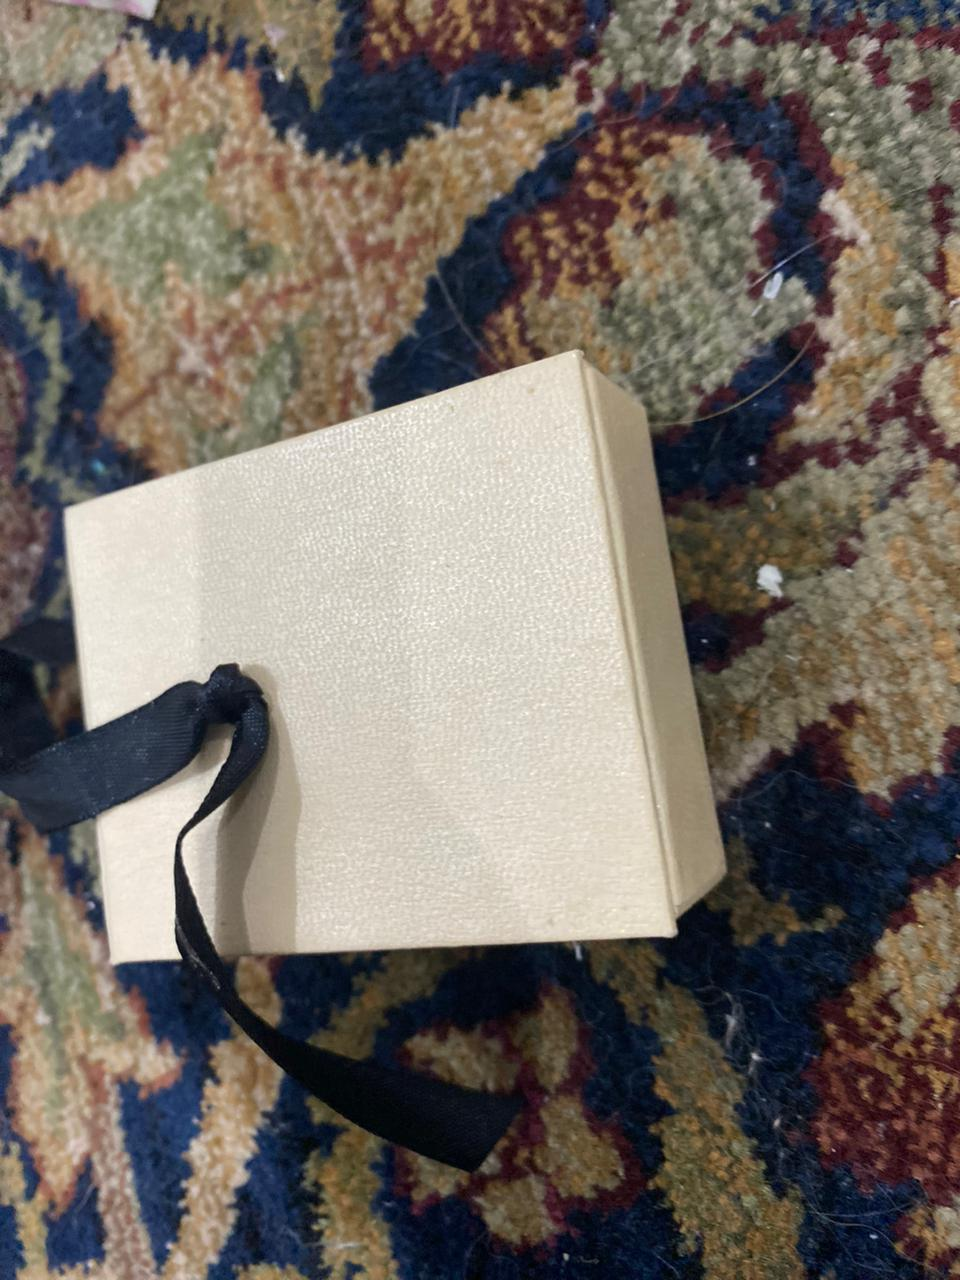Yellow Box: (58, 348, 730, 972)
